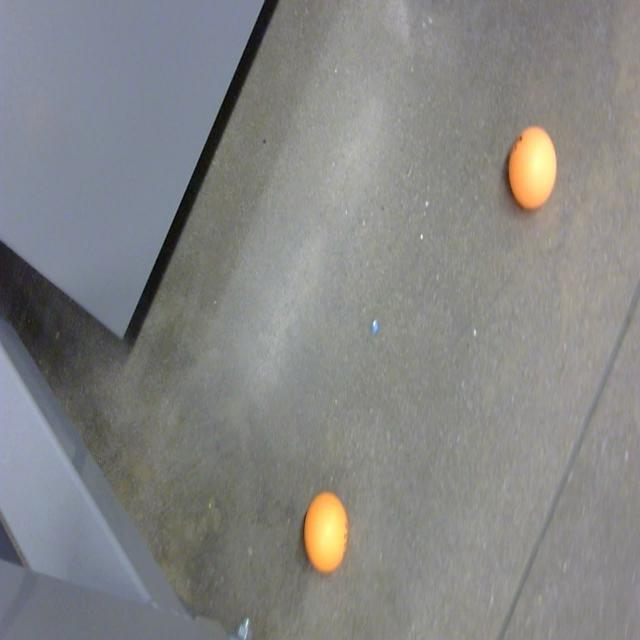ball: (506, 127, 560, 216), (301, 489, 351, 575)
